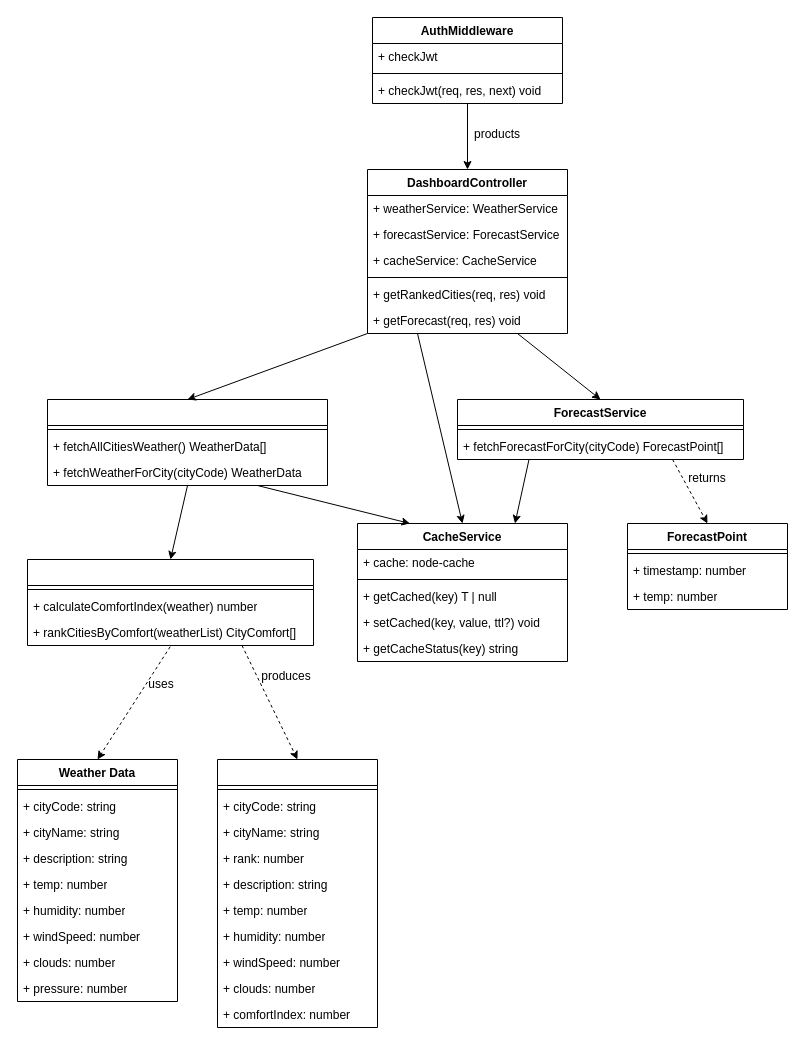
Some shapes in this 805 by 1048 pixel diagram are drawn without their labels. The shapes that lost their labels are listed below. From the top down, each one's box as (x1, y1, x2, y2) in pixels, then its label:
(46, 398, 328, 486): WeatherService
(26, 558, 314, 646): ComfortableIndexService
(216, 758, 378, 1028): City Comfort
